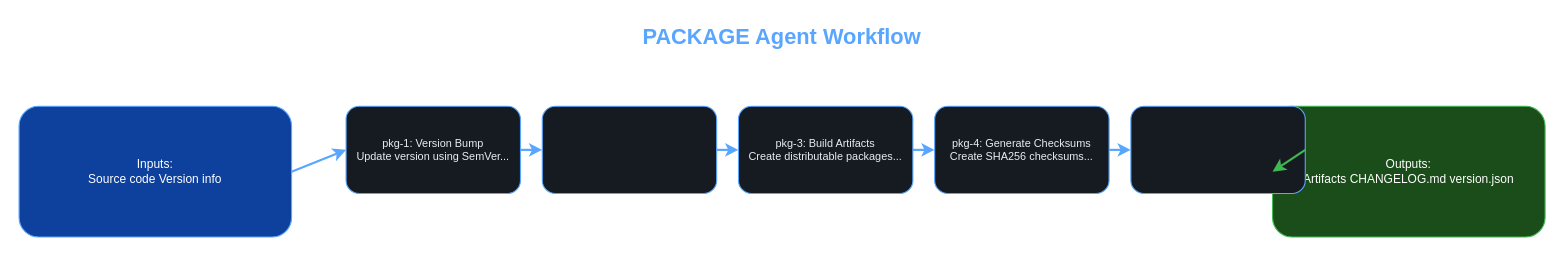
Some shapes in this 1564 by 256 pixel diagram are drawn without their labels. The shapes that lost their labels are listed below. From the top down, each one's centre as x and y in pixels, then its label:
At point 629,149: "pkg-2: Changelog Update Generate changelog entry...".
At point 1217,149: "pkg-5: Sign Artifacts Digital signature for verification...".
